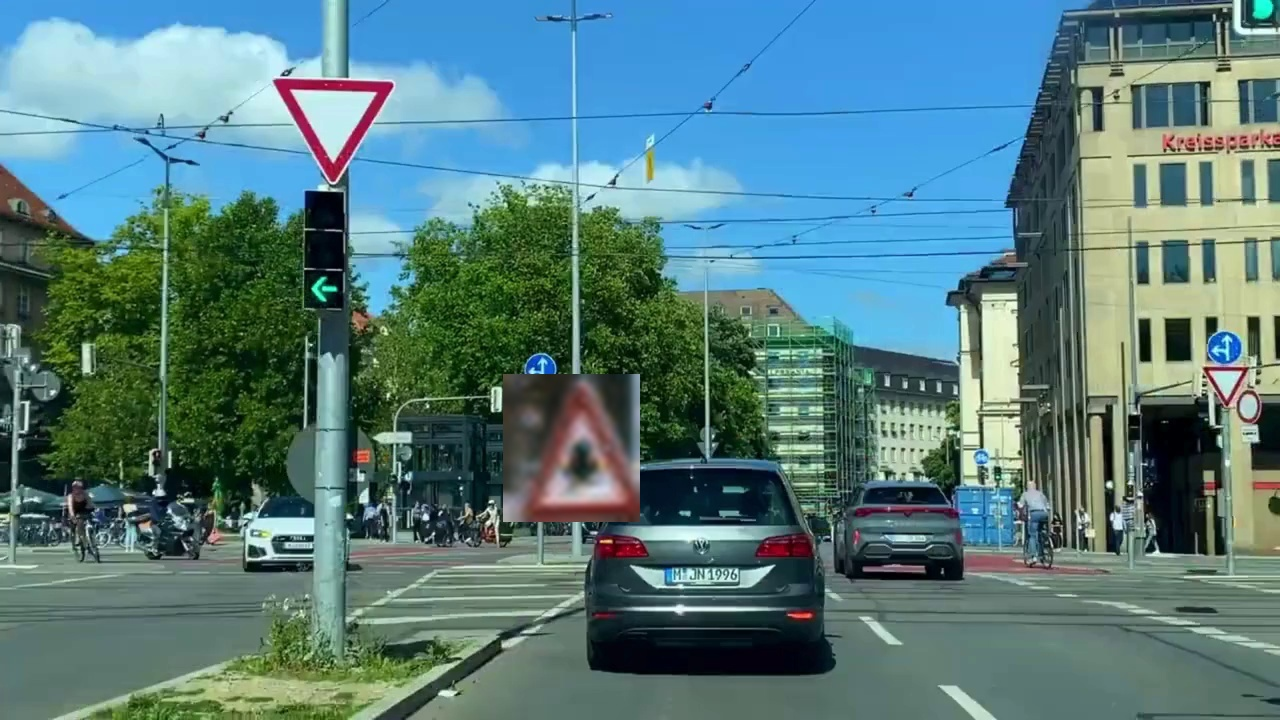Right-of-way: (503, 374, 640, 522)
